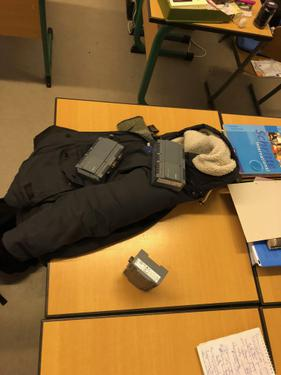device: (74, 136, 124, 184), (122, 248, 168, 292), (150, 139, 185, 192)
